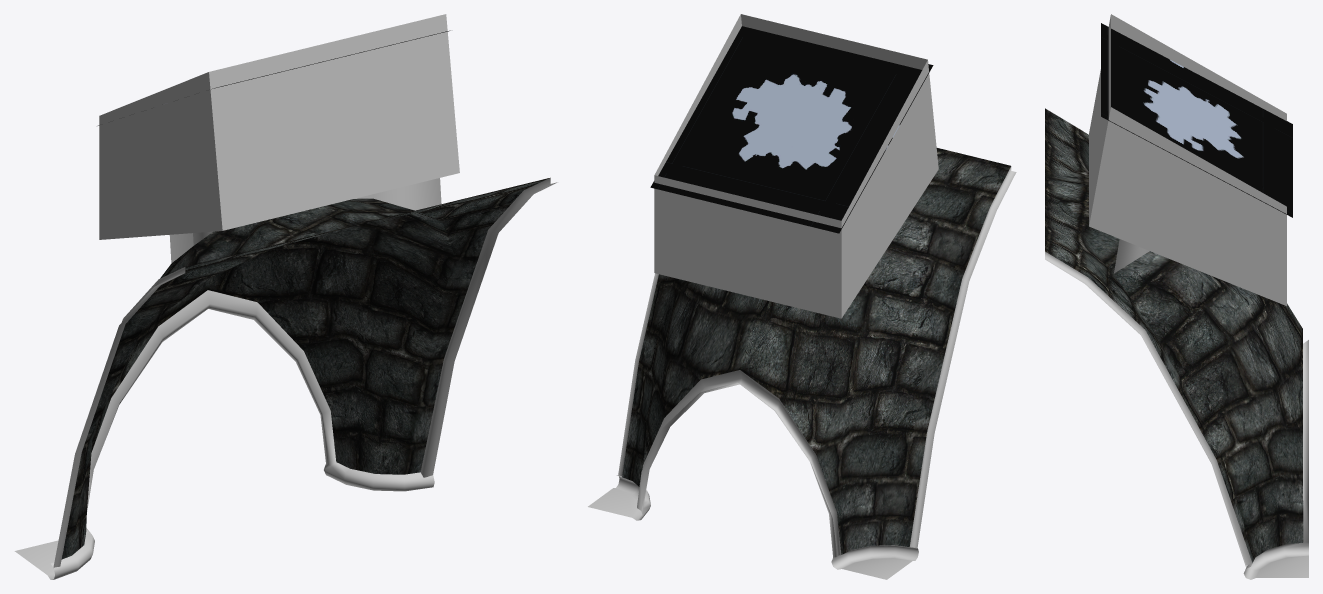
The model's file is arched_square_bricks_broken.dae.
3 views of the same model, side by side, from view 1: azimuth 30°, elevation 25°; view 2: azimuth 150°, elevation 25°; view 3: azimuth 270°, elevation 25° (orthographic). The views are drawn at different scales.
Parts seen in each view (by area): view 1: pCube1, polySurface193, polySurface187, polySurface192; view 2: polySurface193, pPlane1, pCube1, polySurface187; view 3: polySurface193, pCube1, pPlane1, polySurface187, polySurface192.
Boxes of the visible parts, left/top/right/bottom form: pCube1: left=99, top=14, right=459, bottom=239; polySurface193: left=61, top=178, right=549, bottom=559; polySurface187: left=14, top=178, right=557, bottom=579; polySurface192: left=169, top=178, right=441, bottom=263; polySurface193: left=622, top=148, right=1010, bottom=554; pPlane1: left=650, top=26, right=933, bottom=233; pCube1: left=654, top=14, right=938, bottom=318; polySurface187: left=588, top=166, right=1016, bottom=579; polySurface193: left=1045, top=108, right=1303, bottom=562; pCube1: left=1089, top=14, right=1286, bottom=305; pPlane1: left=1101, top=23, right=1292, bottom=217; polySurface187: left=1045, top=251, right=1308, bottom=579; polySurface192: left=1114, top=239, right=1149, bottom=273.
Bounding box in the file's own units: 4 × 5.58 × 3.
